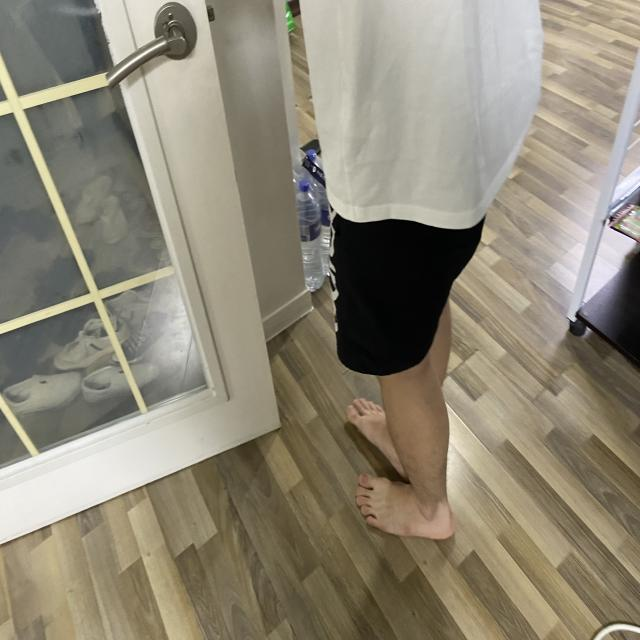no-boots: (359, 476, 470, 572), (340, 391, 423, 478)
